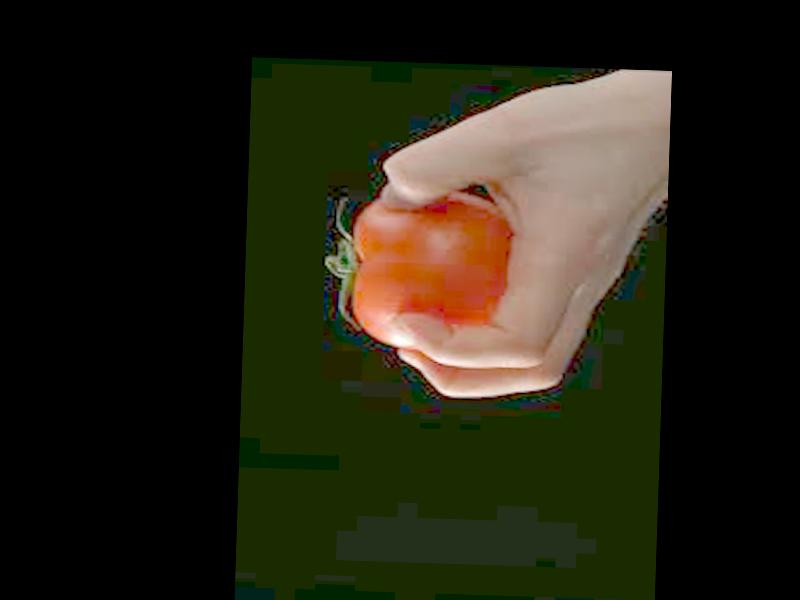Tomato: (325, 188, 508, 349)
